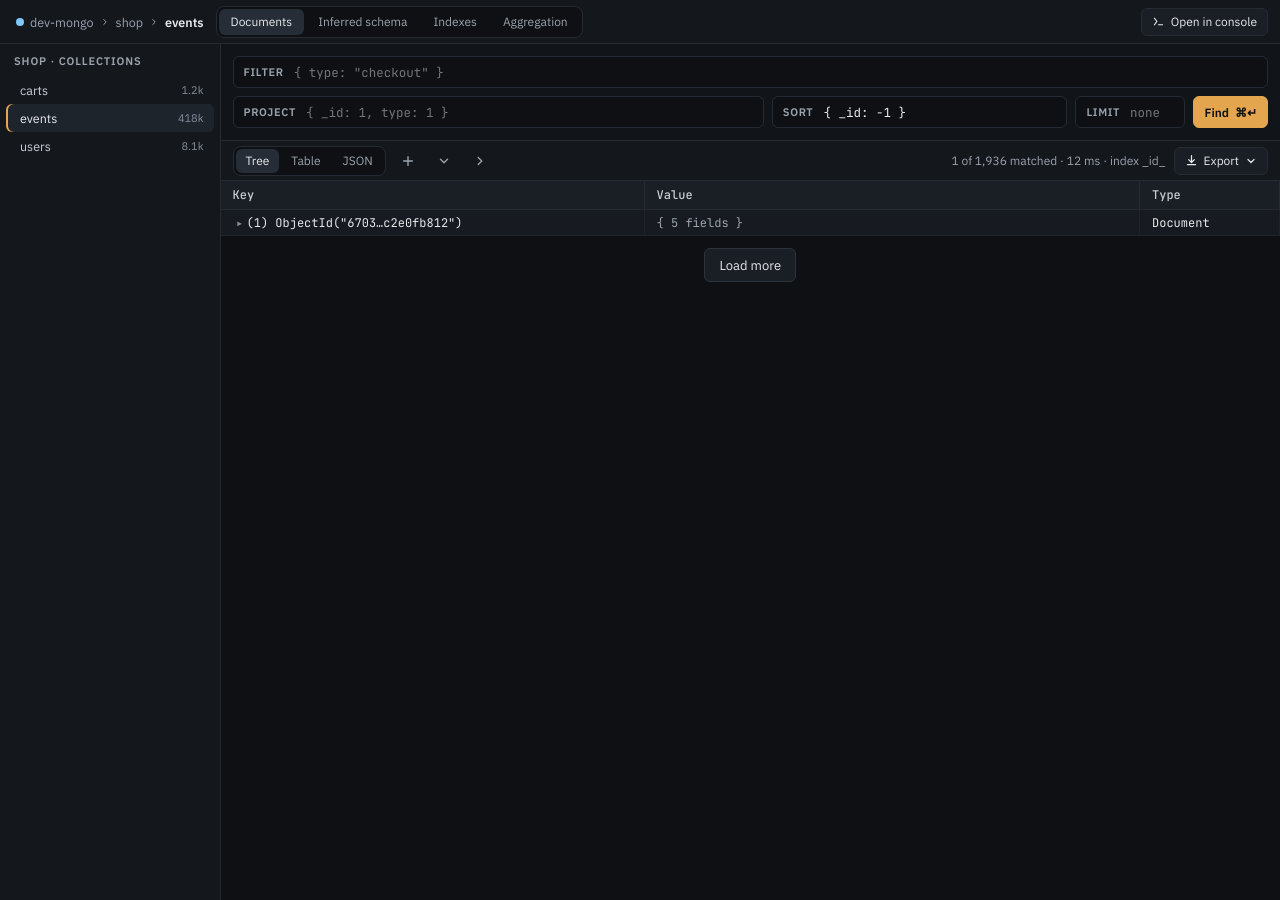
Test: paging › loads the next page from the open cursor
The width and height of the screenshot is (1280, 900).
Check: the text "▸ (1) ObjectId(\"6703…c2e0fb812\")" is shown, box [220, 210, 644, 236]
Check: the text "(2)" is not shown
Click the button "Load more".
click(750, 265)  # box [704, 248, 796, 282]
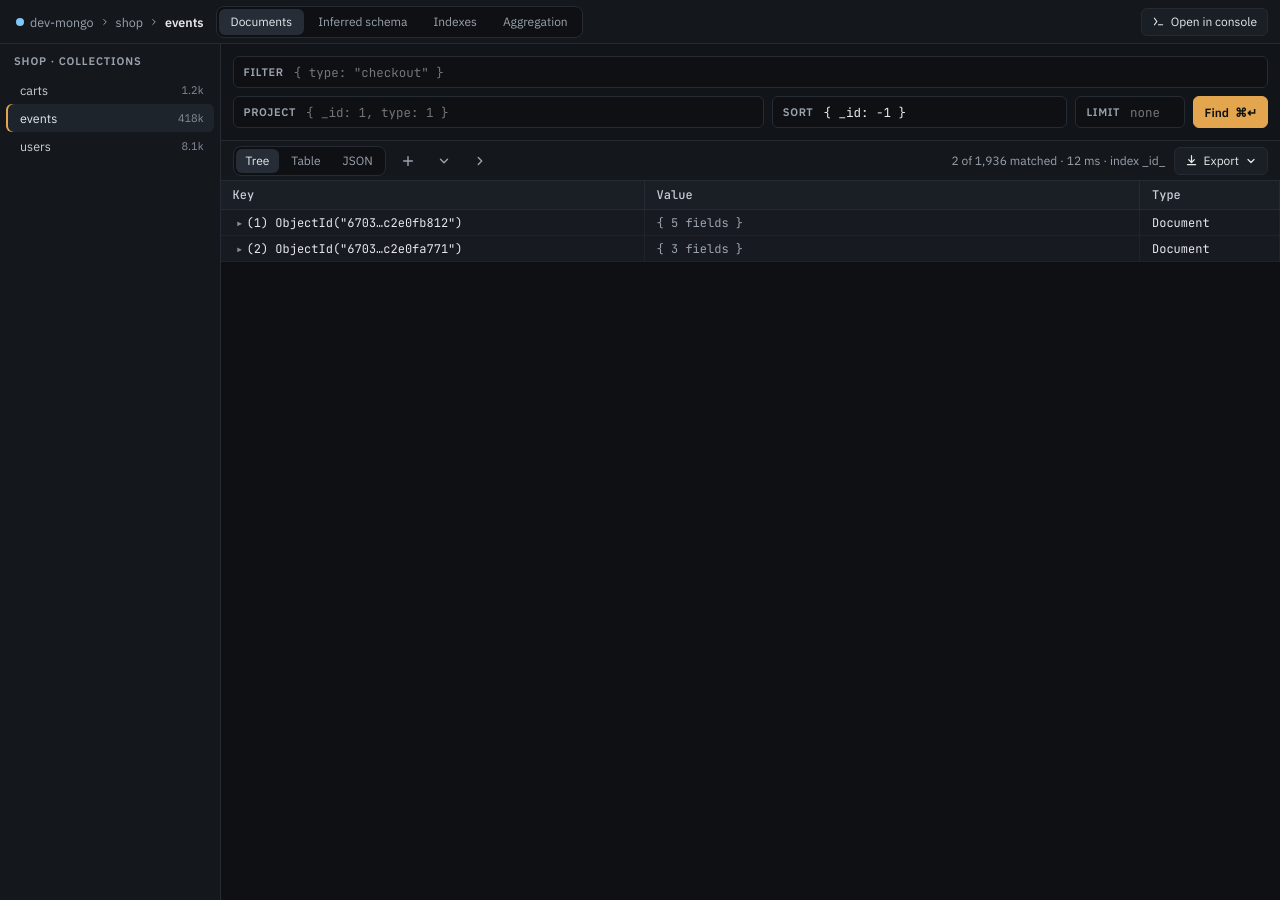
Check: the text "▸ (2) ObjectId(\"6703…c2e0fa771\")" is shown, box [220, 236, 644, 262]
Check: the button "Load more" is gone
